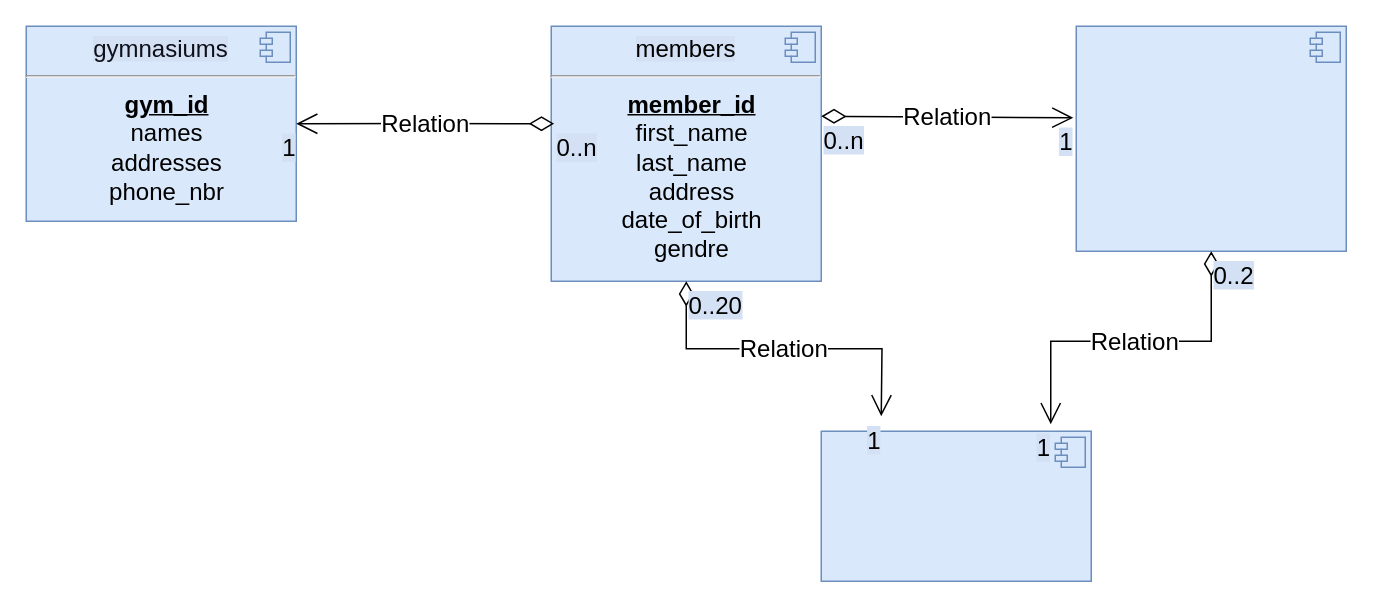
The diagram is 1373 pixels wide and 608 high, and some of its shapes have lost their labels. Here are the shapes that lost their labels. From the top down, the centre of each, then its label:
the point at 1210,138: coach coach_id first_name last_name age specialty
the point at 955,505: session member_id coach_id
